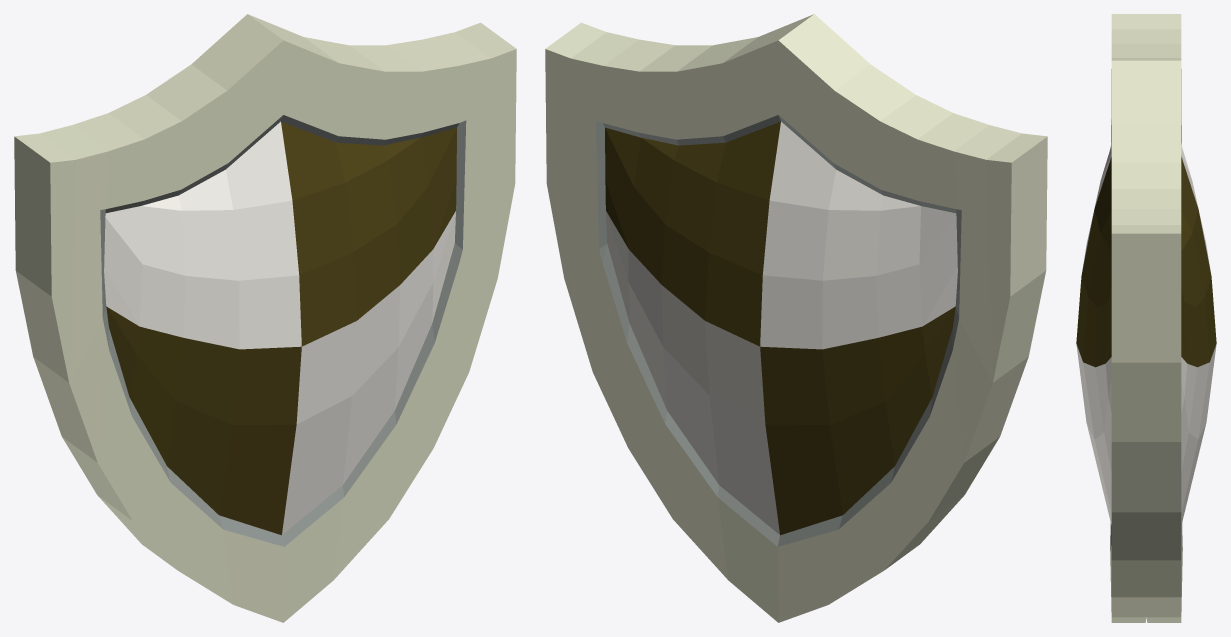
Rendered from Shield_Yellow.fbx.
3 views of the same model, side by side, from view 1: azimuth 30°, elevation 25°; view 2: azimuth 150°, elevation 25°; view 3: azimuth 270°, elevation 25° (orthographic). The views are drawn at different scales.
Parts seen in each view (by area): view 1: Shield; view 2: Shield; view 3: Shield.
Part boxes in pixels (<box>): Shield: <box>14,14,516,622</box>; Shield: <box>545,14,1047,622</box>; Shield: <box>1076,14,1216,622</box>.
Size of the model in its own units: 58.34 by 15.75 by 69.63.
